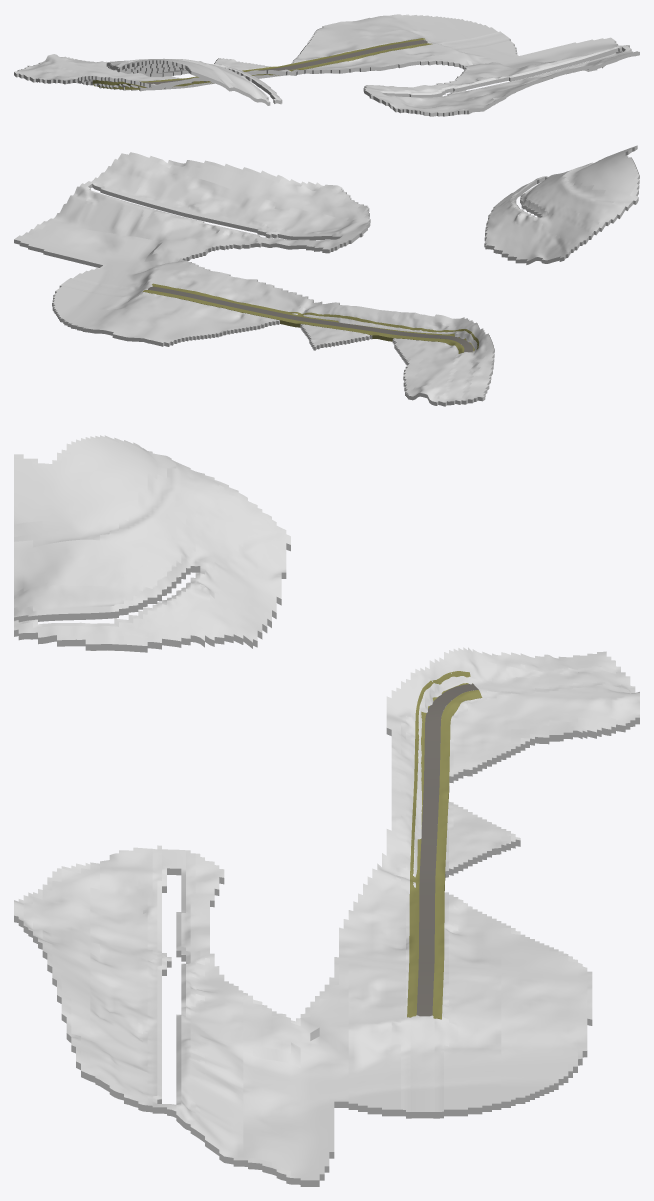
File: conz_120.glb
3 views of the same model, one above another, from view 1: azimuth 30°, elevation 25°; view 2: azimuth 150°, elevation 25°; view 3: azimuth 270°, elevation 25° (orthographic). The views are drawn at different scales.
Parts seen in each view (by area): view 1: terrain120, verge120L, road120, verge120R; view 2: terrain120, road120, verge120R, verge120L; view 3: terrain120, road120, verge120R, verge120L.
Part boxes in pixels (x1,y1,x2,y2): terrain120: (14,14,639,116); verge120L: (92,43,432,89); road120: (145,40,427,84); verge120R: (139,38,425,82); terrain120: (14,145,639,406); road120: (148,286,473,352); verge120R: (143,290,464,353); verge120L: (152,283,478,351); terrain120: (14,435,639,1186); road120: (416,683,478,1016); verge120R: (432,690,482,1019); verge120L: (407,671,472,1017).
Bounding box in the file's own units: 478 × 132 × 262.
